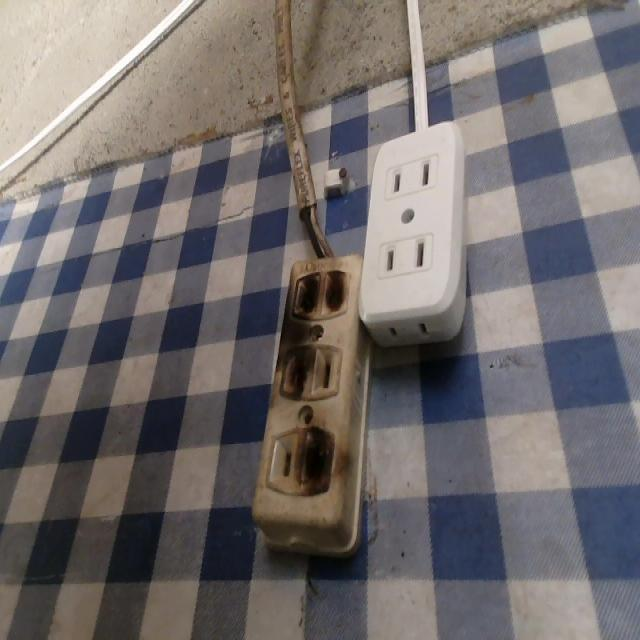-: (280, 262, 363, 322), (296, 425, 337, 500), (276, 344, 318, 403)
